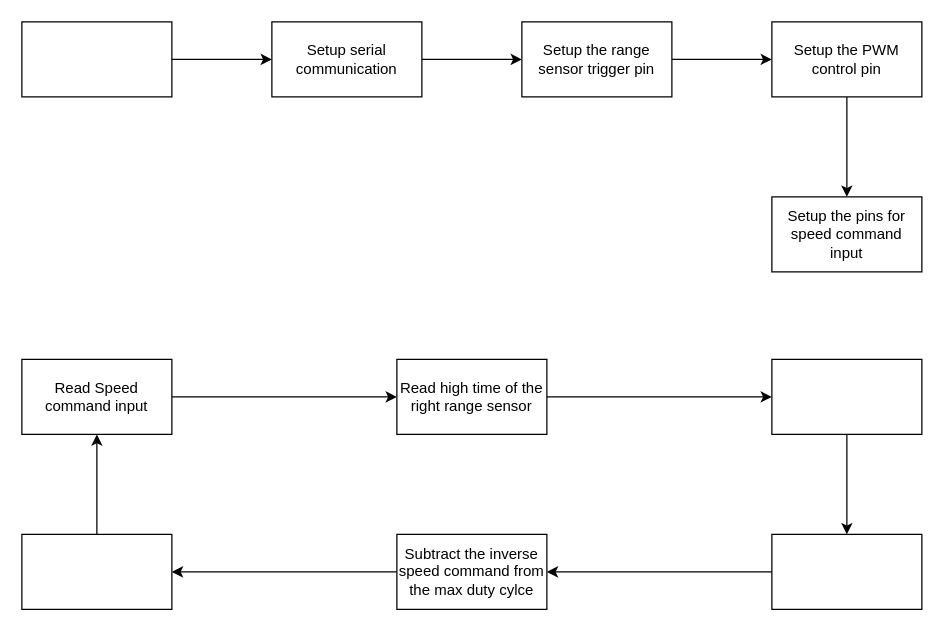
The diagram is 944 pixels wide and 631 high, and some of its shapes have lost their labels. Each missing label, with the centre of its shape:
Calculate the max duty cycle based on the range measured: the point at 846,571
Calculate the range measured by the range sensor: the point at 846,396
Change the PWM control duty cycle to the new value: the point at 96,571
Declare pins and constants: the point at 96,59
